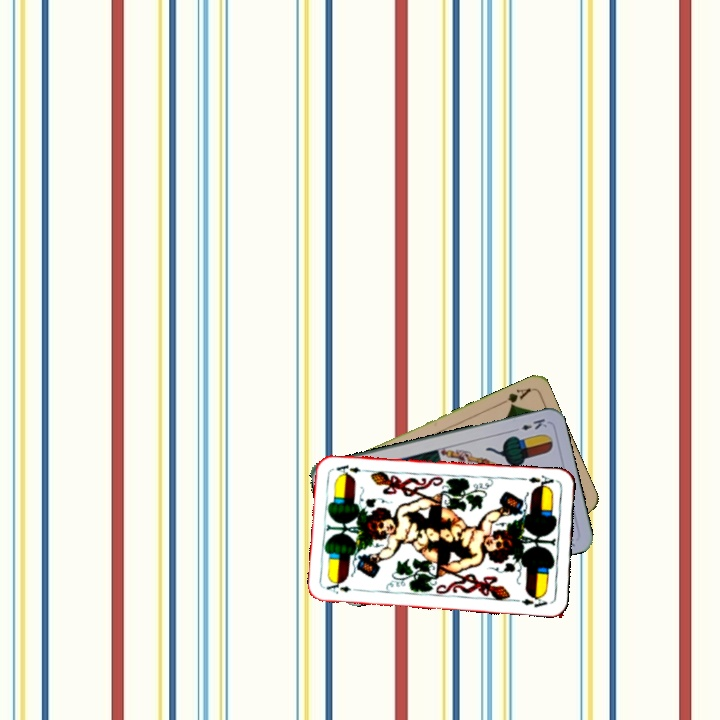EA: (322, 578, 363, 596), (525, 471, 556, 491)
EK: (509, 414, 550, 434)
GA: (496, 384, 533, 410)
